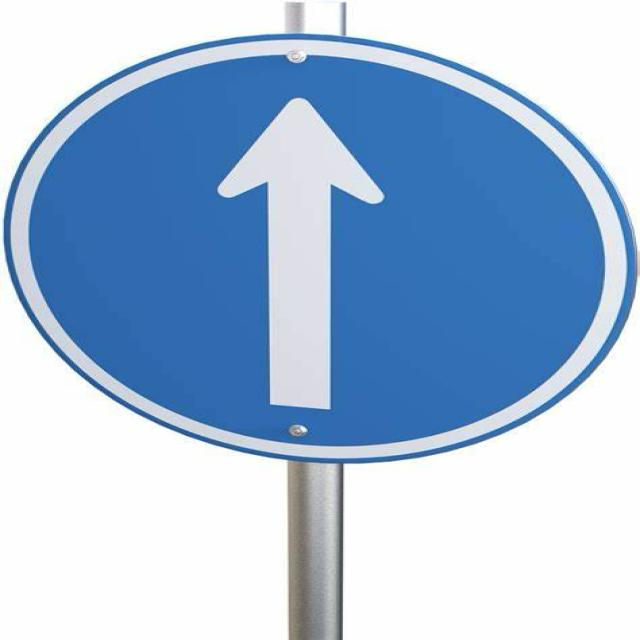compulsory_ahead: (15, 26, 630, 452)
